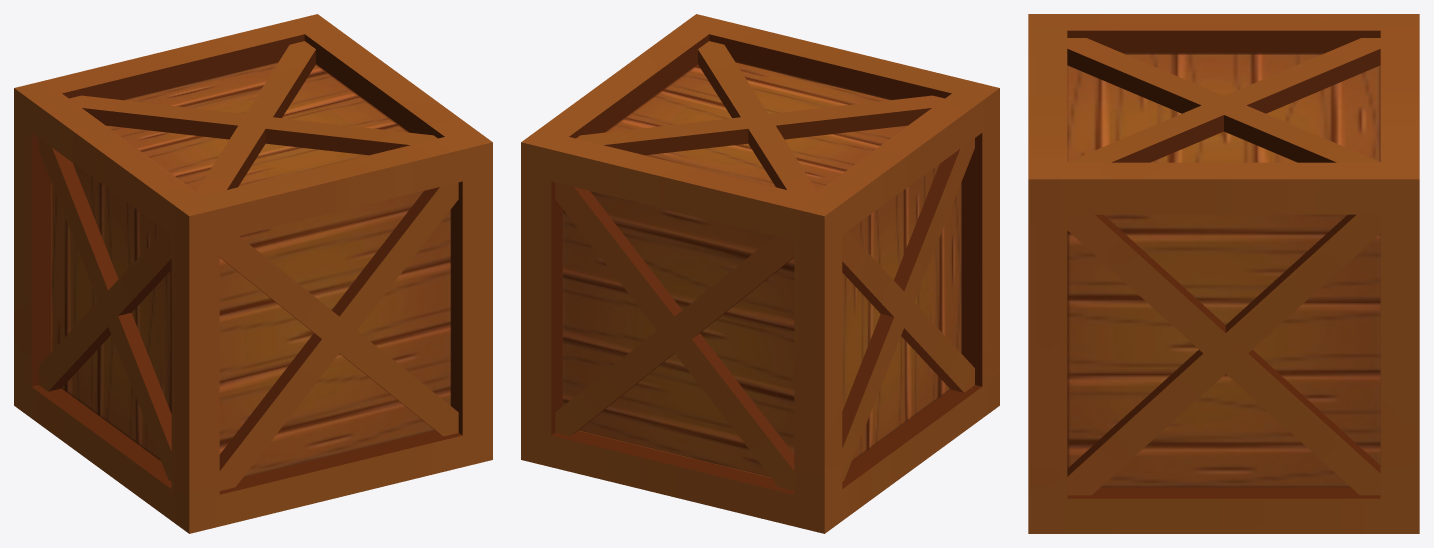
The model's file is CaixaMadeira2.fbx.
The picture shows the model from 3 angles, left to right: view 1: azimuth 30°, elevation 25°; view 2: azimuth 150°, elevation 25°; view 3: azimuth 270°, elevation 25°; orthographic projection. The views are drawn at different scales.
Visible parts, largest first — view 1: CaixaMadeira2; view 2: CaixaMadeira2; view 3: CaixaMadeira2.
Part boxes in pixels (box(x1,y1,x2,y2)): CaixaMadeira2: box(14, 14, 492, 533); CaixaMadeira2: box(521, 14, 999, 533); CaixaMadeira2: box(1028, 14, 1419, 533).
Bounding box in the file's own units: 100 × 100 × 100.
